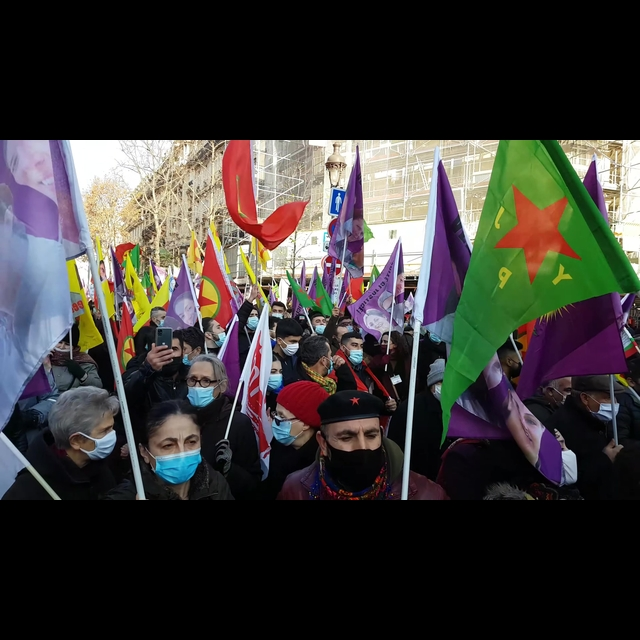PKK: (194, 273, 222, 319)
YPJ: (489, 180, 580, 293)
